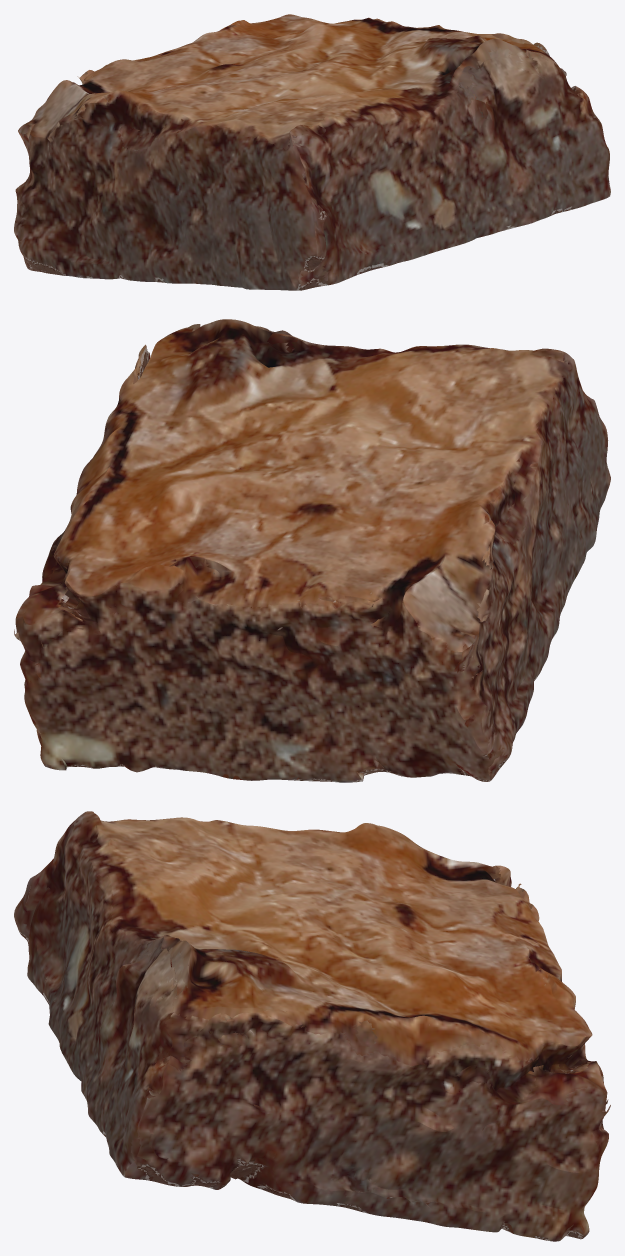
Rendered from brownie.glb.
The picture shows the model from 3 angles, top to bottom: view 1: azimuth 30°, elevation 25°; view 2: azimuth 150°, elevation 25°; view 3: azimuth 270°, elevation 25°; orthographic projection. The views are drawn at different scales.
Parts seen in each view (by area): view 1: Object_2, Object_4, Object_3; view 2: Object_2, Object_4; view 3: Object_2, Object_4.
Part boxes in pixels (<box>): Object_2: <box>14,14,610,290</box>; Object_4: <box>16,33,600,273</box>; Object_3: <box>50,195,609,290</box>; Object_2: <box>15,319,610,782</box>; Object_4: <box>14,324,598,782</box>; Object_2: <box>14,817,608,1241</box>; Object_4: <box>29,811,610,1241</box>.
Size of the model in its own units: 89.15 by 49.38 by 89.06.
Materials: 1 (1 with a texture image).
